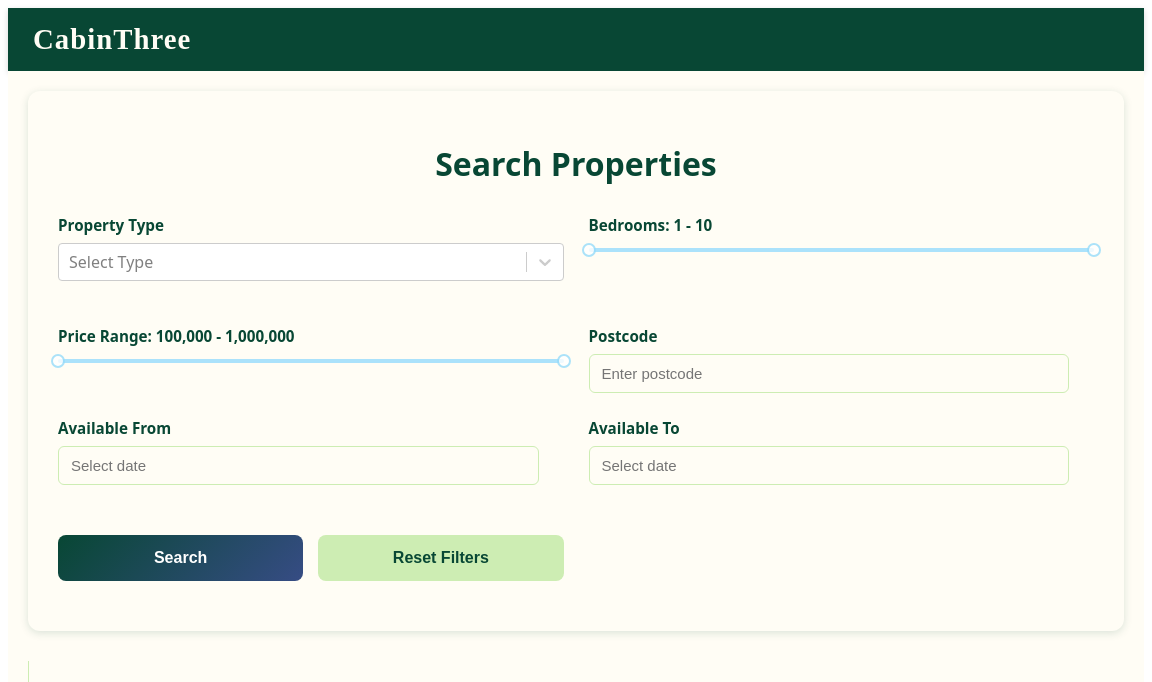
Test: SearchPage - Essential Tests › displays search results when search button is clicked
Click the button "Search" at (181, 558), box [58,535,303,581]
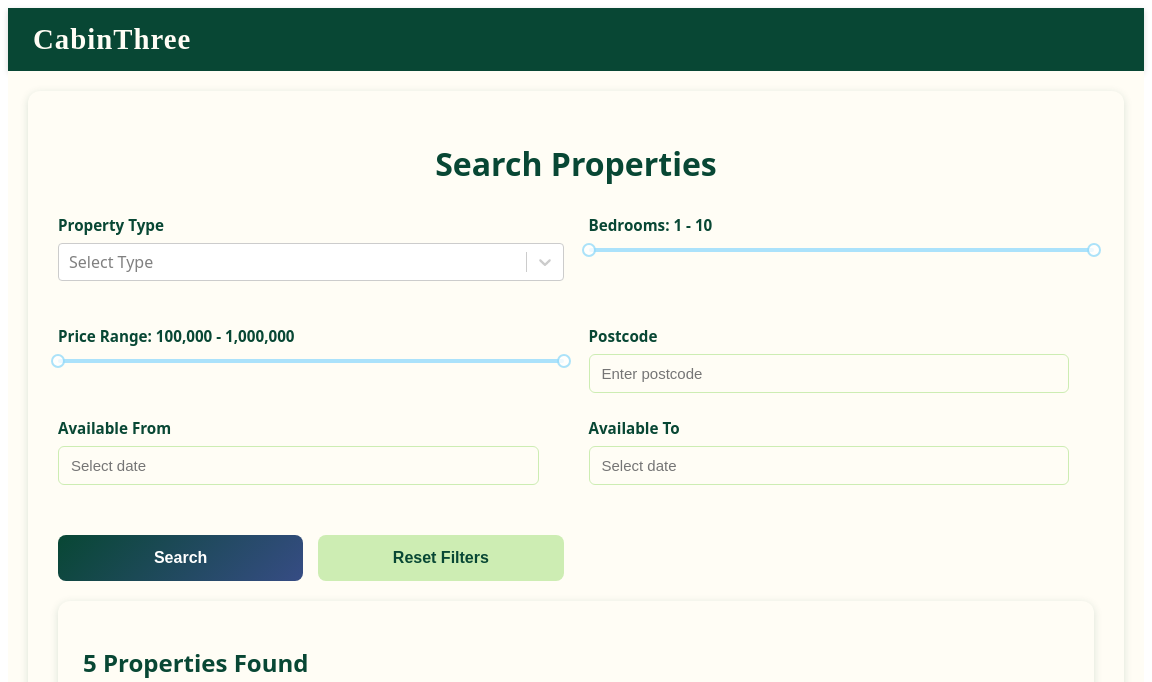
Expected: the heading "5 Properties Found" is shown, [83,646,308,679]
